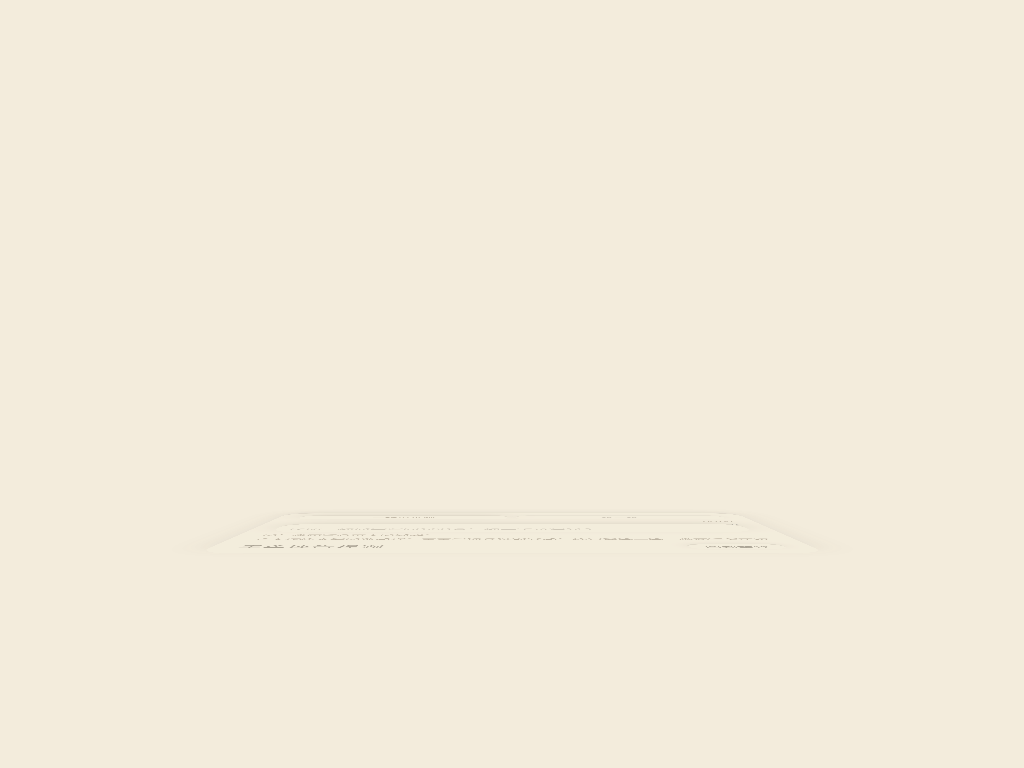
事实还是猜测 › 气泡分进两个树洞后给出点评，并记下猜测与思维陷阱
Type "他没回我消息，我觉得他讨厌我" into the text box named "写下让你不安的话" at (512, 528), box [269,524,755,532]
Click the button "拆一拆" at (622, 518), box [516,516,728,520]
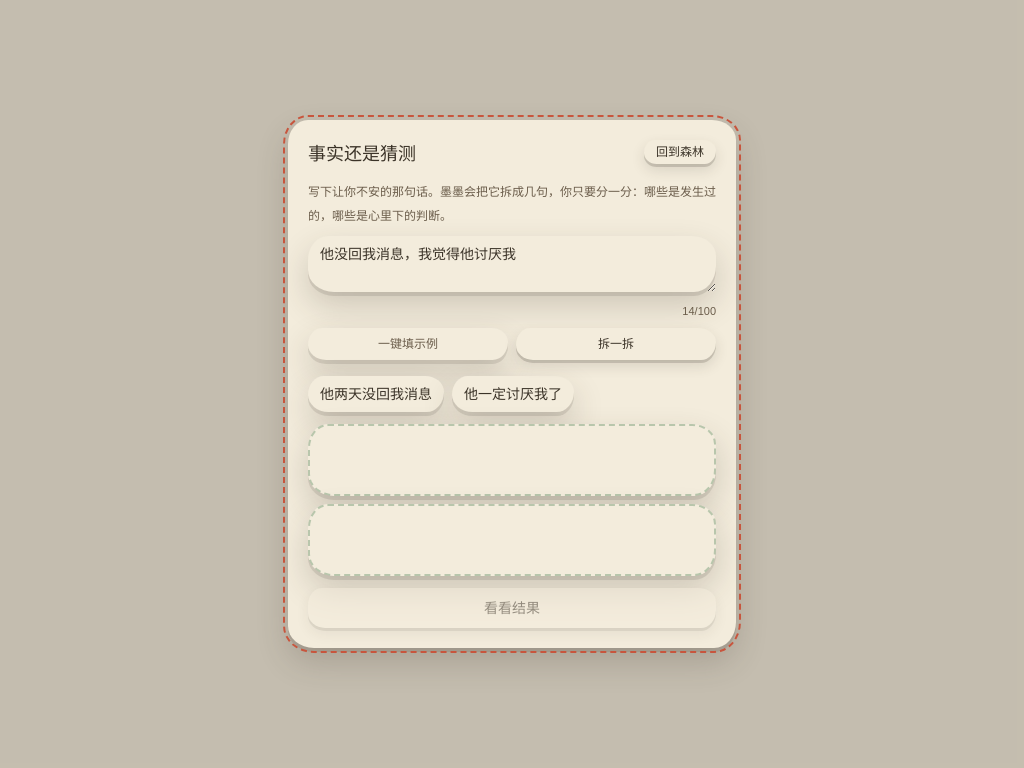
Expected: the button "他两天没回我消息" is shown
Expected: the button "看看结果" is disabled, [308,588,716,628]
Click the button "他两天没回我消息" at (376, 394), box [308,376,444,412]
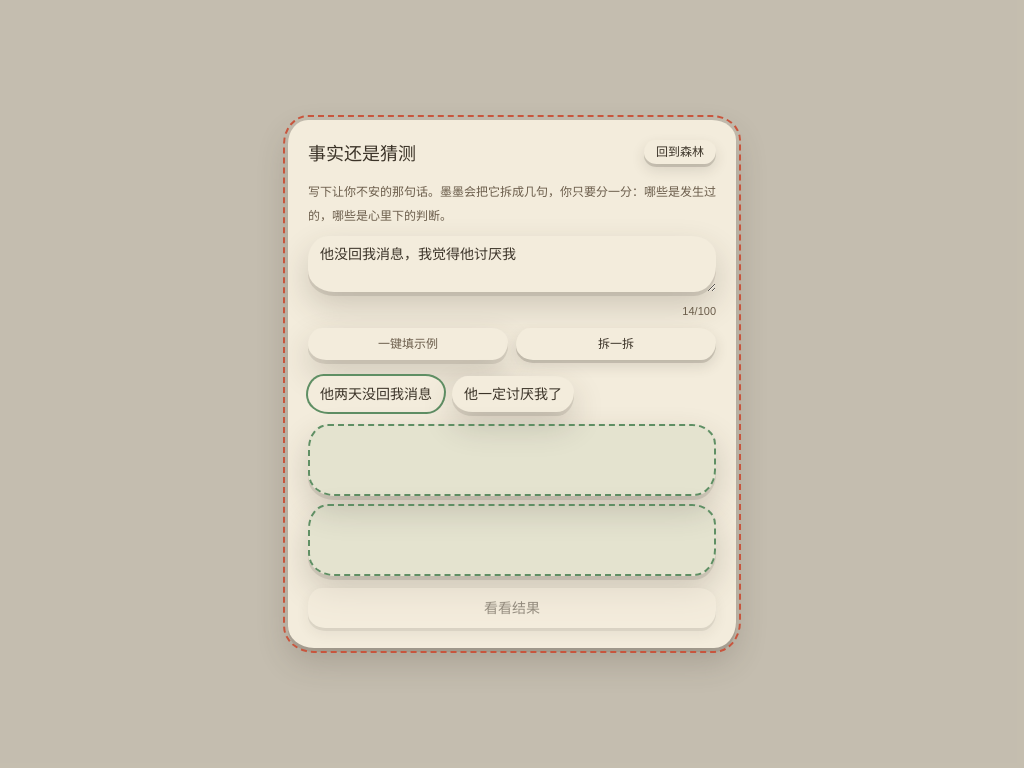
Click the button named "事实树洞" at (512, 460), box [308,424,716,496]
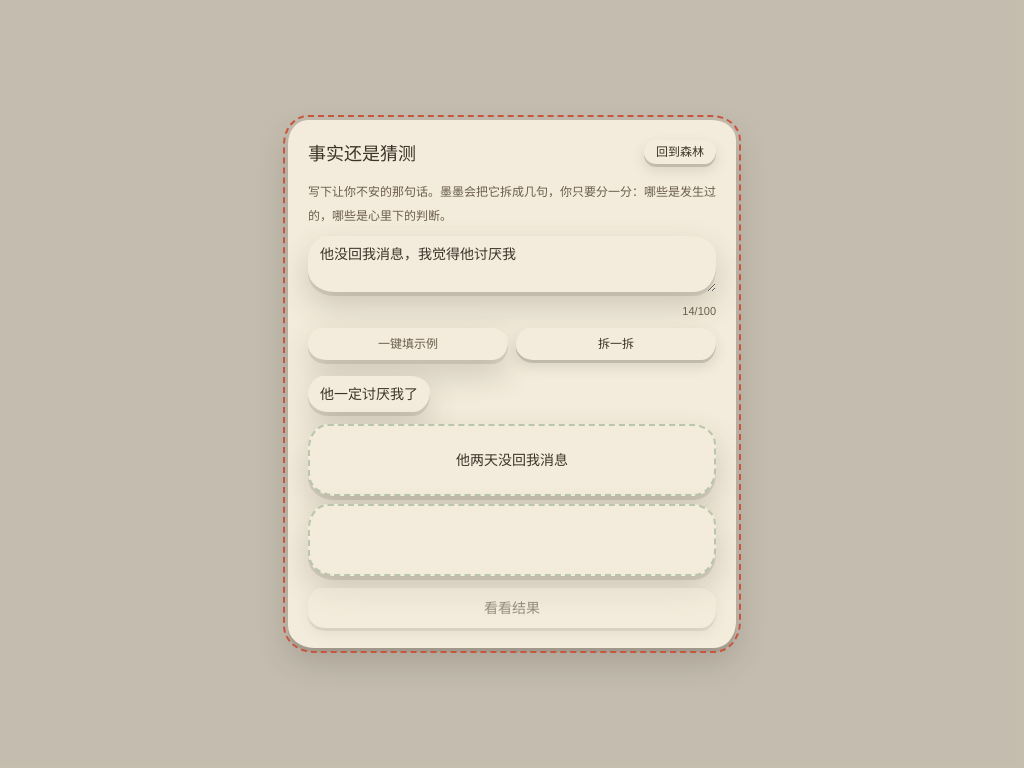
Click the button "他一定讨厌我了" at (369, 394), box [308,376,430,412]
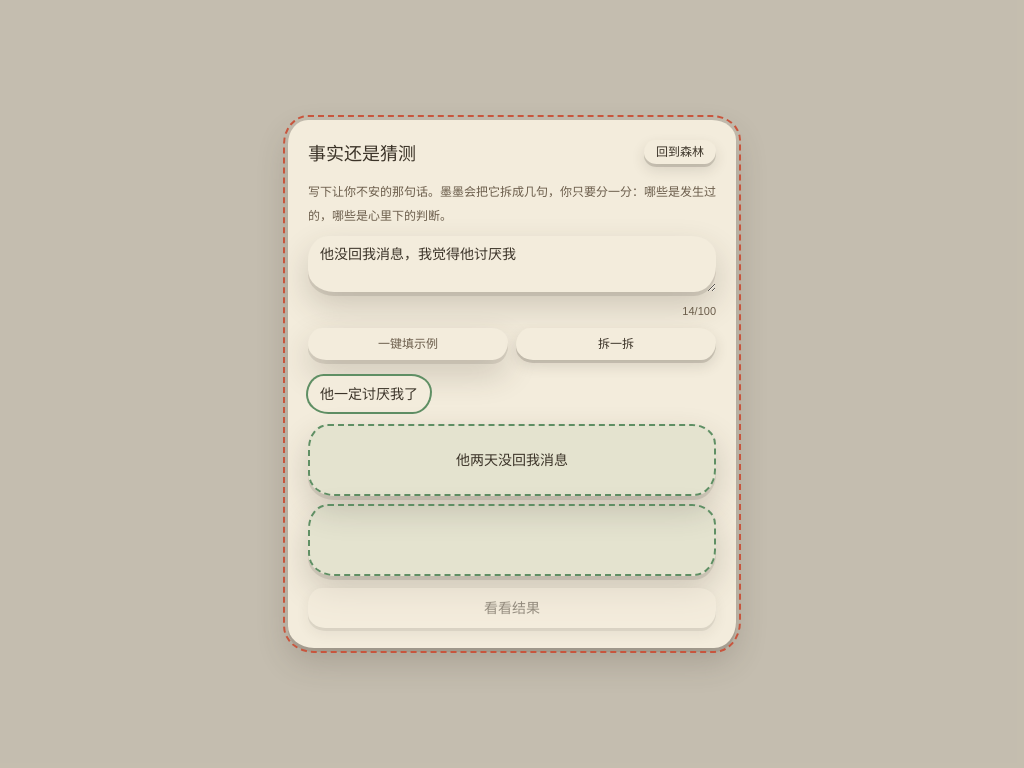
Click the button with aria-label "事实树洞" at (512, 460), box [308,424,716,496]
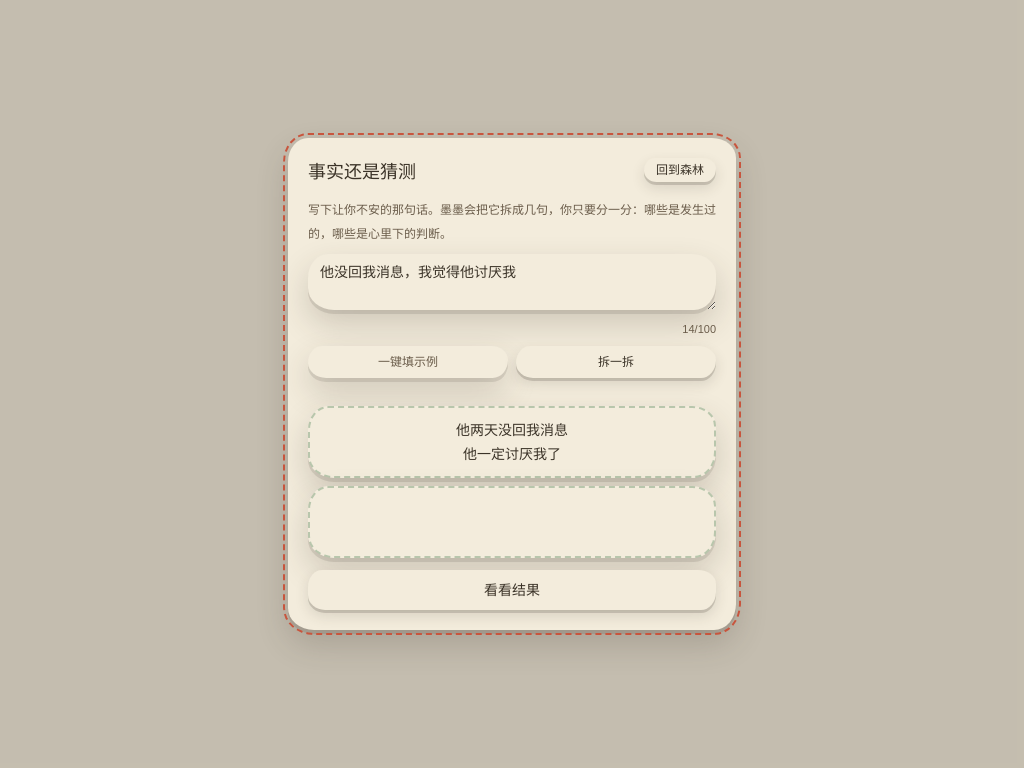
Expected: the button "看看结果" is enabled
Click the button "看看结果" at (512, 590), box [308,570,716,610]
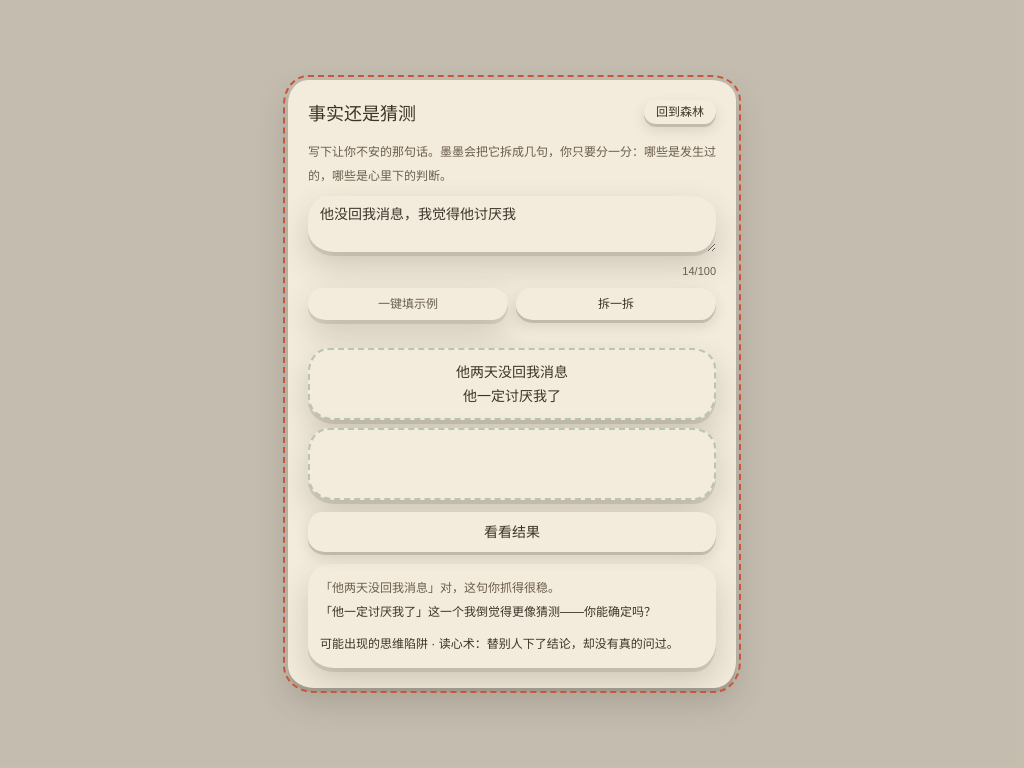
Expected: the element with test id "guess-review" does not show "错了", [308,564,716,668]
Expected: the element with test id "guess-review" shows "这一个我倒觉得更像猜测——你能确定吗？", [428,605,656,619]
Expected: the element with test id "guess-review" shows "读心术", [439,637,679,651]
